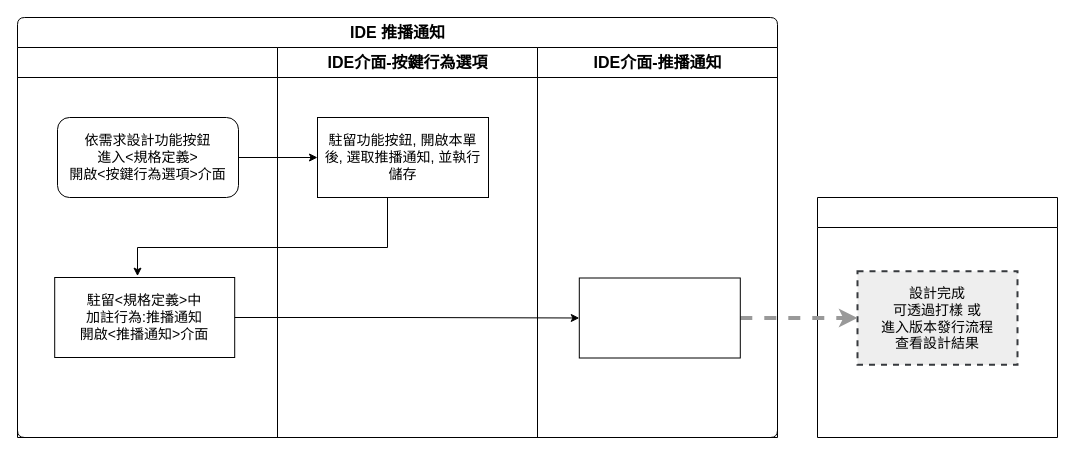
The diagram is 1075 pixels wide and 455 high, and some of its shapes have lost their labels. Here are the shapes that lost their labels. From the top down, the box of each, then its label:
(16, 46, 278, 438): 設計者
(578, 277, 740, 358): 依需求設定 推播通知內容
(816, 196, 1058, 438): 打樣 / 發行
